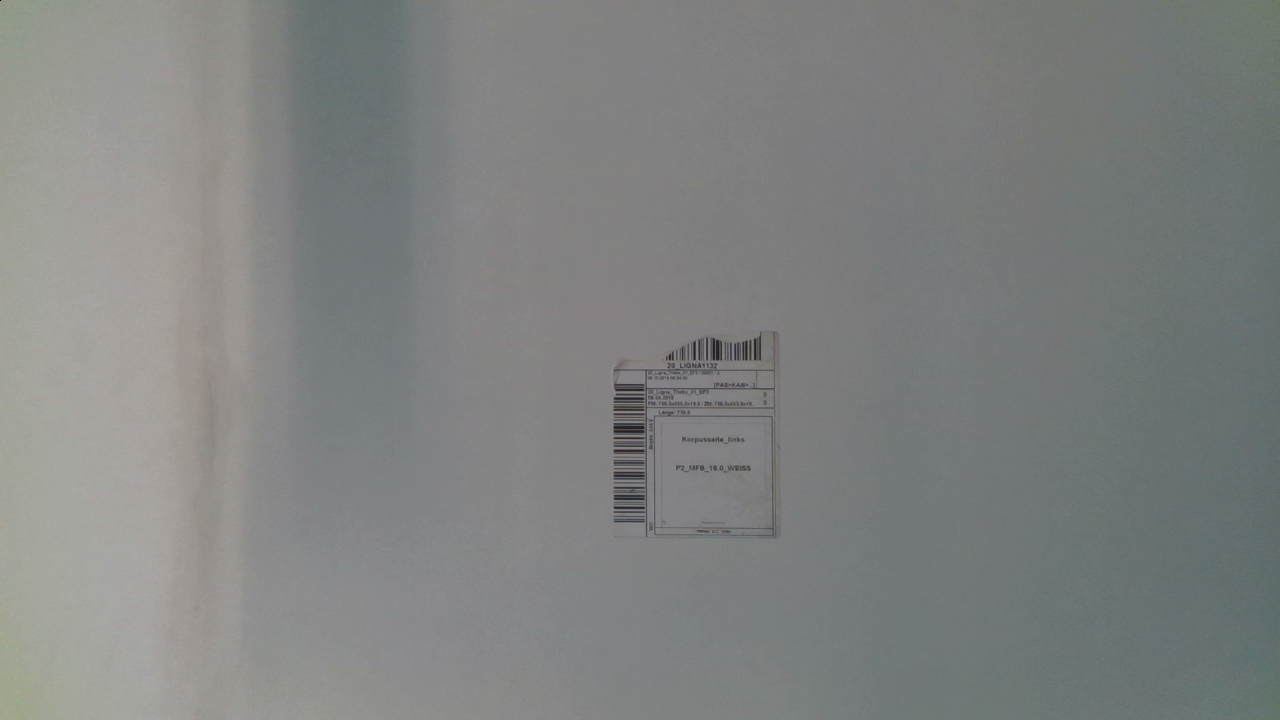barcode: (594, 328, 795, 542)
